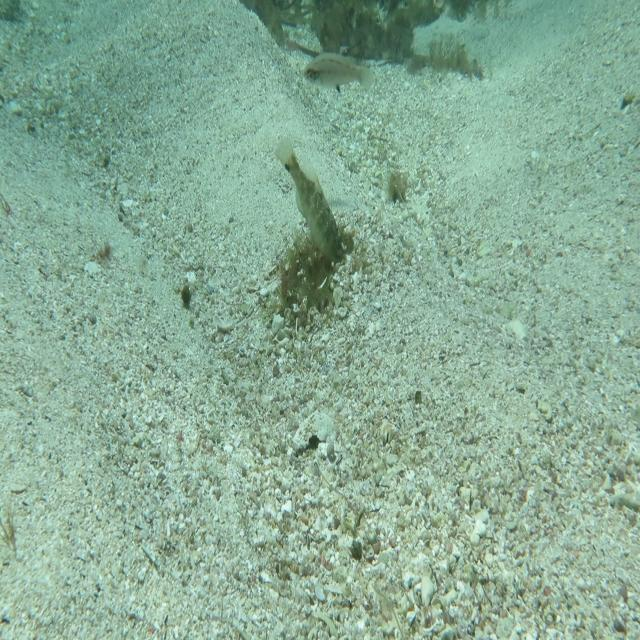NIP_CORE: (270, 133, 351, 270)
female: (298, 48, 377, 104)
nest: (269, 228, 362, 338)
vegetation: (248, 0, 495, 23), (272, 24, 420, 57), (392, 170, 412, 207)
